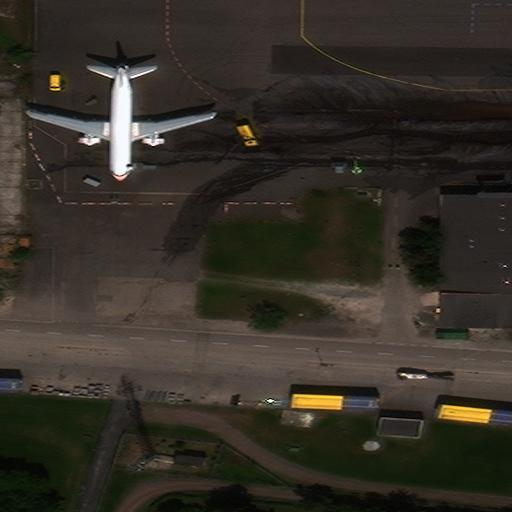Medium Civil Transport: (27, 62, 214, 183)
